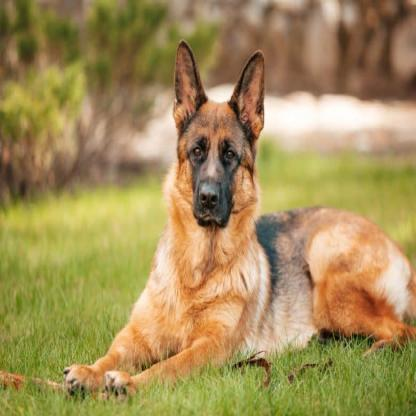german shepherd: (55, 41, 416, 406)
